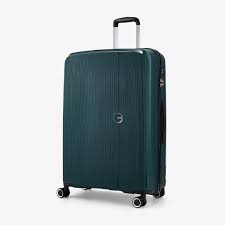suitcase: (54, 17, 167, 209)
